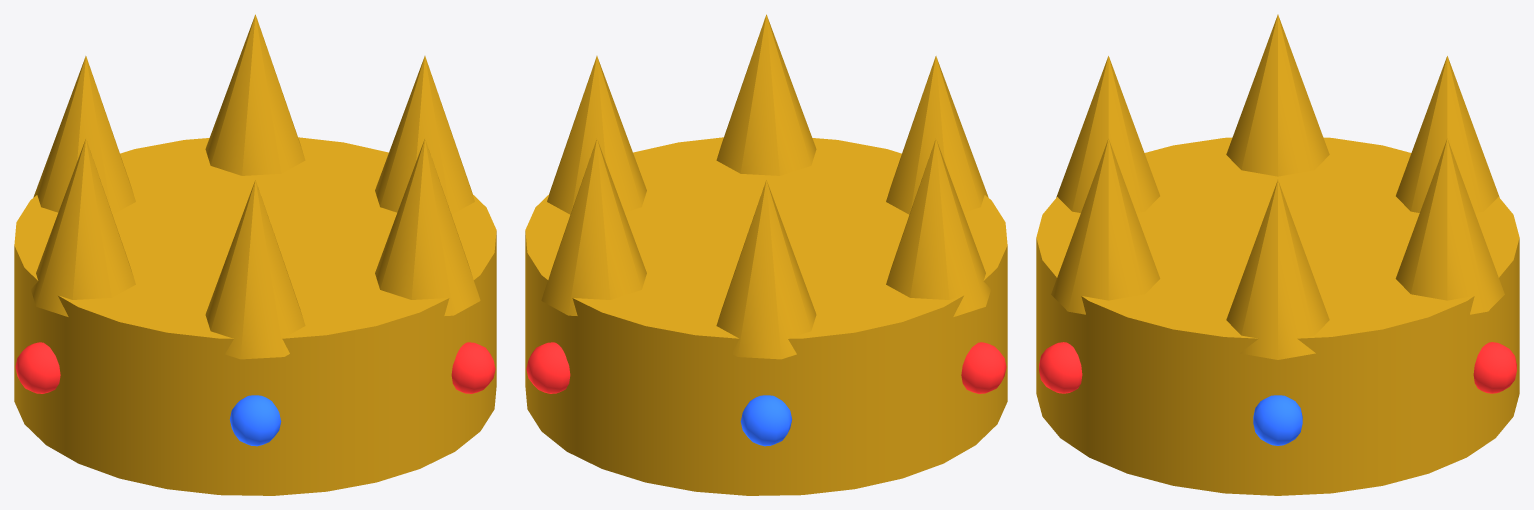
File: crown.glb
3 renders of one model, left to right at view 1: azimuth 30°, elevation 25°; view 2: azimuth 150°, elevation 25°; view 3: azimuth 270°, elevation 25°, orthographic.
Size of the model in its own units: 0.95 by 0.57 by 0.84.
